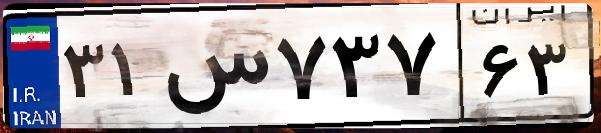1: (110, 28, 158, 98)
3: (330, 28, 385, 110), (57, 26, 110, 100), (525, 38, 570, 115)
6: (475, 38, 525, 113)
7: (270, 28, 330, 110), (385, 28, 445, 110)
س: (158, 20, 270, 120)
